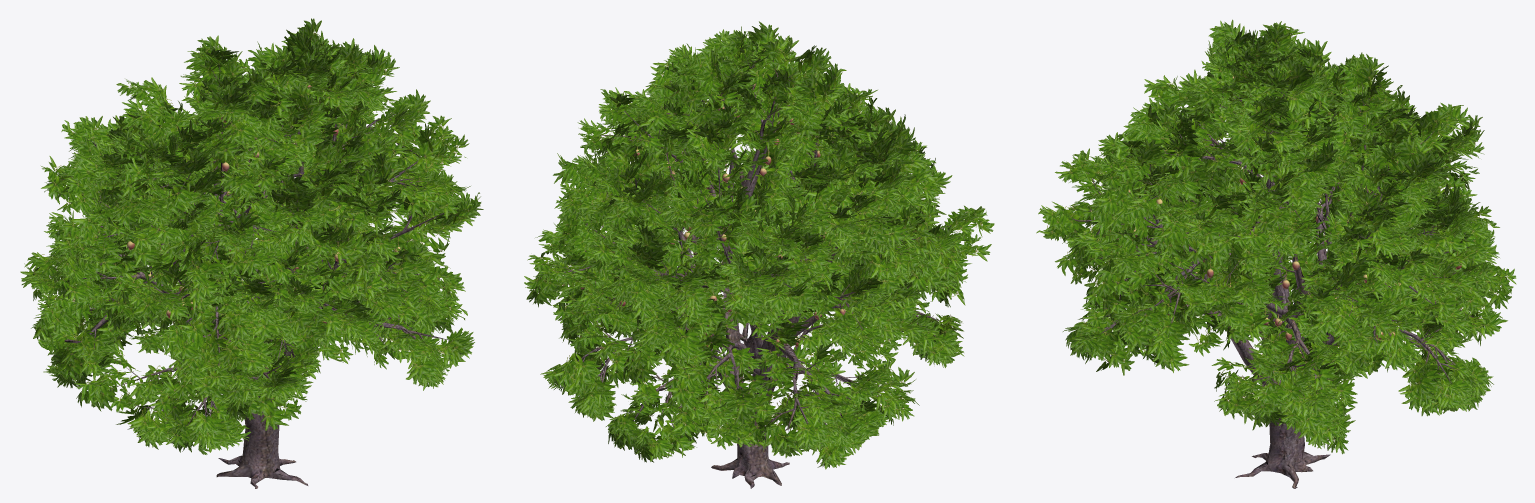
The model's file is mango.glb.
The picture shows the model from 3 angles, left to right: view 1: azimuth 30°, elevation 25°; view 2: azimuth 150°, elevation 25°; view 3: azimuth 270°, elevation 25°; orthographic projection. The views are drawn at different scales.
Parts seen in each view (by area): view 1: leaves, tree; view 2: leaves, tree; view 3: leaves, tree.
Boxes of the visible parts, x1,y1,x2,y2 form: leaves: (20, 18, 483, 454); tree: (49, 63, 449, 488); leaves: (524, 21, 994, 469); tree: (552, 52, 957, 488); leaves: (1036, 19, 1516, 454); tree: (1072, 57, 1494, 488).
Size of the model in its own units: 6.69 by 6.86 by 6.76.
3 materials, 3 textured.
